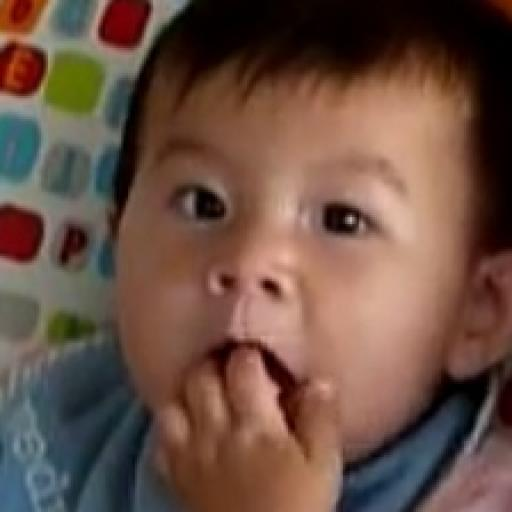Autism: (87, 25, 512, 512)
